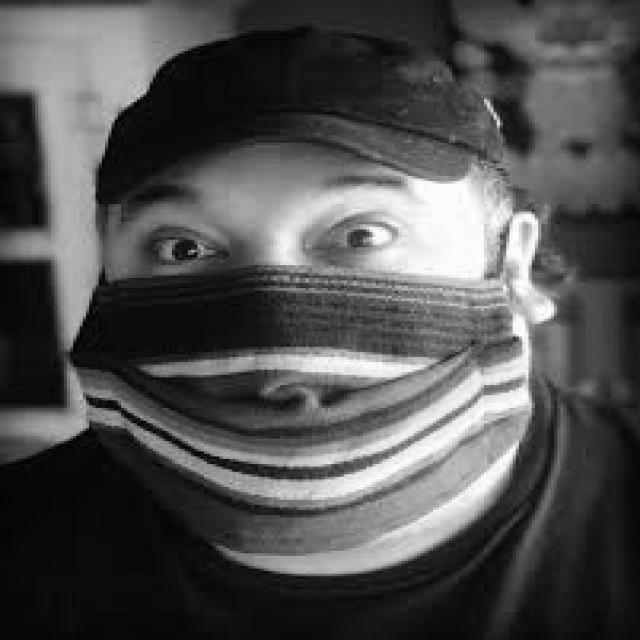fake: (54, 257, 558, 560)
real: (102, 139, 490, 571)
